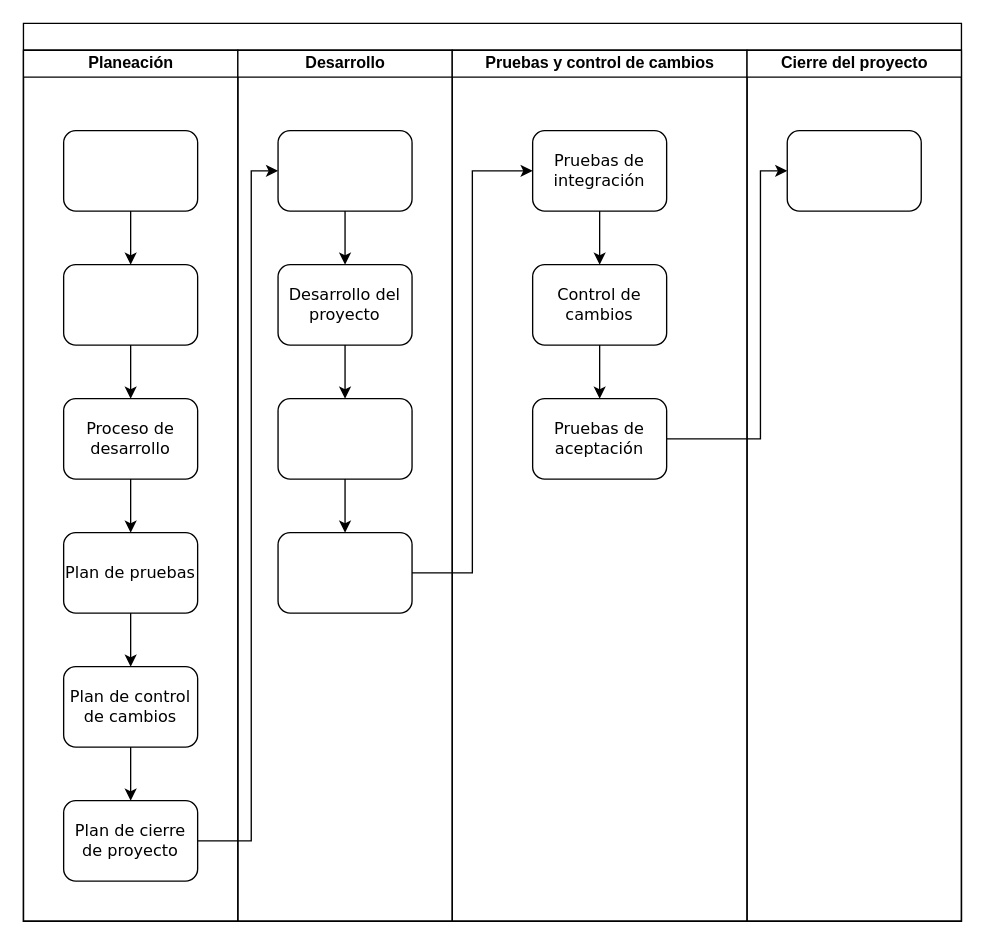
Image size: 985x945. Some labels were removed from this diagram. The box of each missing label's shape, as (x1, y1, x2, y2) in pixels:
Creación de proyecto: (277, 129, 412, 211)
Desarrollo de módulos: (277, 531, 412, 613)
Desarrollo del proyecto base: (277, 397, 412, 479)
Desgloce de trabajo: (62, 263, 198, 345)
Plan de Desarrollo: (62, 129, 198, 211)
Verificar cumplimiento de requisitos establecidos: (786, 129, 921, 211)
